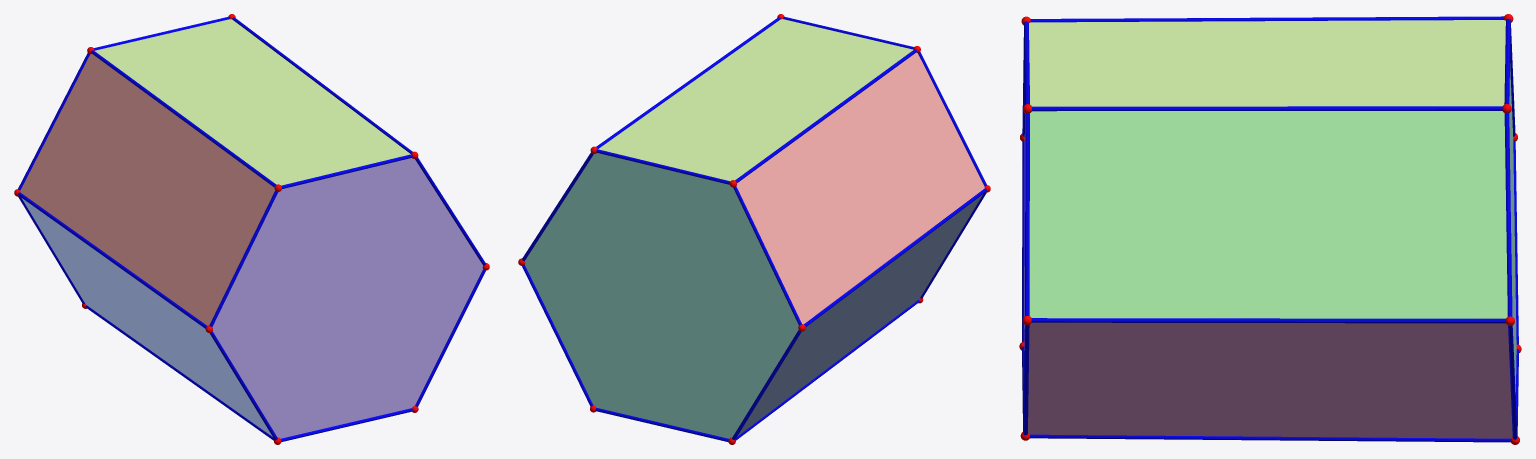
The model's file is pipeline_results_structured.obj.
The picture shows the model from 3 angles, left to right: view 1: azimuth 30°, elevation 25°; view 2: azimuth 150°, elevation 25°; view 3: azimuth 270°, elevation 25°; orthographic projection. The views are drawn at different scales.
Visible parts, largest first — view 1: face_00006, face_00000, face_00002, face_00001, line_00000, line_00001, line_00009, line_00005, line_00003, line_00012, line_00008, line_00016 (+4 smaller); view 2: face_00004, face_00000, face_00002, face_00001, line_00000, line_00001, line_00009, line_00005, line_00002, line_00010, line_00007, line_00014 (+3 smaller); view 3: face_00007, face_00003, face_00002, line_00013, line_00009, line_00011, line_00001, face_00004, line_00015, line_00017, line_00004, line_00010 (+2 smaller).
Part boxes in pixels (bbox=[...]): face_00006: bbox=[212, 158, 482, 438]; face_00000: bbox=[20, 53, 274, 325]; face_00002: bbox=[95, 19, 410, 185]; face_00001: bbox=[22, 198, 272, 436]; line_00000: bbox=[18, 192, 206, 328]; line_00001: bbox=[91, 50, 276, 187]; line_00009: bbox=[232, 17, 412, 153]; line_00005: bbox=[85, 305, 274, 440]; line_00003: bbox=[209, 190, 278, 326]; line_00012: bbox=[415, 269, 485, 406]; line_00008: bbox=[281, 154, 412, 188]; line_00016: bbox=[281, 408, 412, 441]; face_00004: bbox=[525, 153, 798, 438]; face_00000: bbox=[736, 52, 984, 324]; face_00002: bbox=[598, 19, 913, 181]; face_00001: bbox=[737, 194, 982, 436]; line_00000: bbox=[804, 188, 986, 326]; line_00001: bbox=[735, 49, 916, 182]; line_00009: bbox=[596, 17, 780, 148]; line_00005: bbox=[735, 300, 919, 440]; line_00002: bbox=[733, 186, 801, 325]; line_00010: bbox=[522, 265, 593, 406]; line_00007: bbox=[596, 149, 730, 184]; line_00014: bbox=[595, 408, 728, 442]; face_00007: bbox=[1029, 111, 1507, 318]; face_00003: bbox=[1028, 322, 1512, 438]; face_00002: bbox=[1029, 20, 1505, 106]; line_00013: bbox=[1031, 318, 1505, 323]; line_00009: bbox=[1032, 106, 1502, 111]; line_00011: bbox=[1030, 434, 1510, 442]; line_00001: bbox=[1030, 16, 1503, 22]; face_00004: bbox=[1509, 63, 1516, 393]; line_00015: bbox=[1504, 112, 1512, 316]; line_00017: bbox=[1025, 113, 1029, 315]; line_00004: bbox=[1513, 141, 1518, 344]; line_00010: bbox=[1508, 325, 1517, 439].
Bounding box in the file's own units: 0.8838 × 0.7727 × 1.03.
